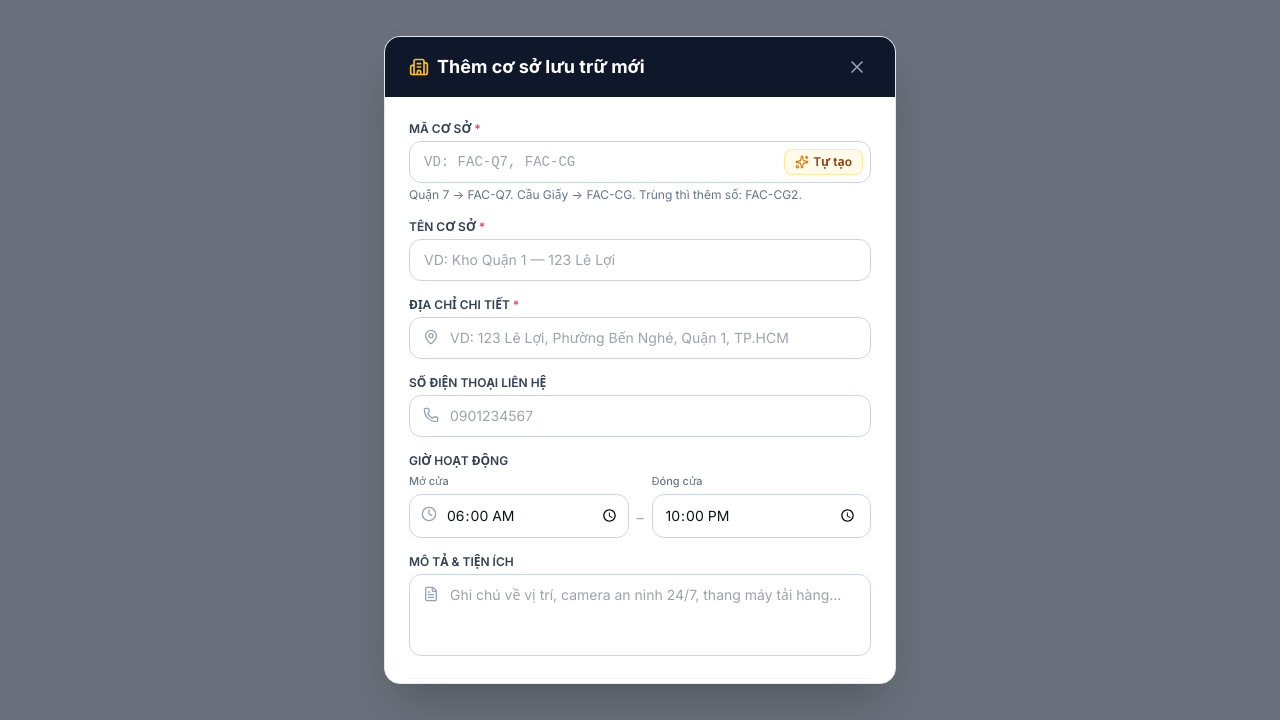
Scenario: FacilityModal: Auto-generate Facility Code › tự động sinh mã FAC-Q1 khi người dùng nhập địa chỉ Quận 1
Nhập Tên cơ sở và Địa chỉ
Type "Kho Quận 1" into the field with placeholder "VD: Kho Quận 1 — 123 Lê Lợi". click: (640, 260)
box: left=409, top=239, right=871, bottom=281
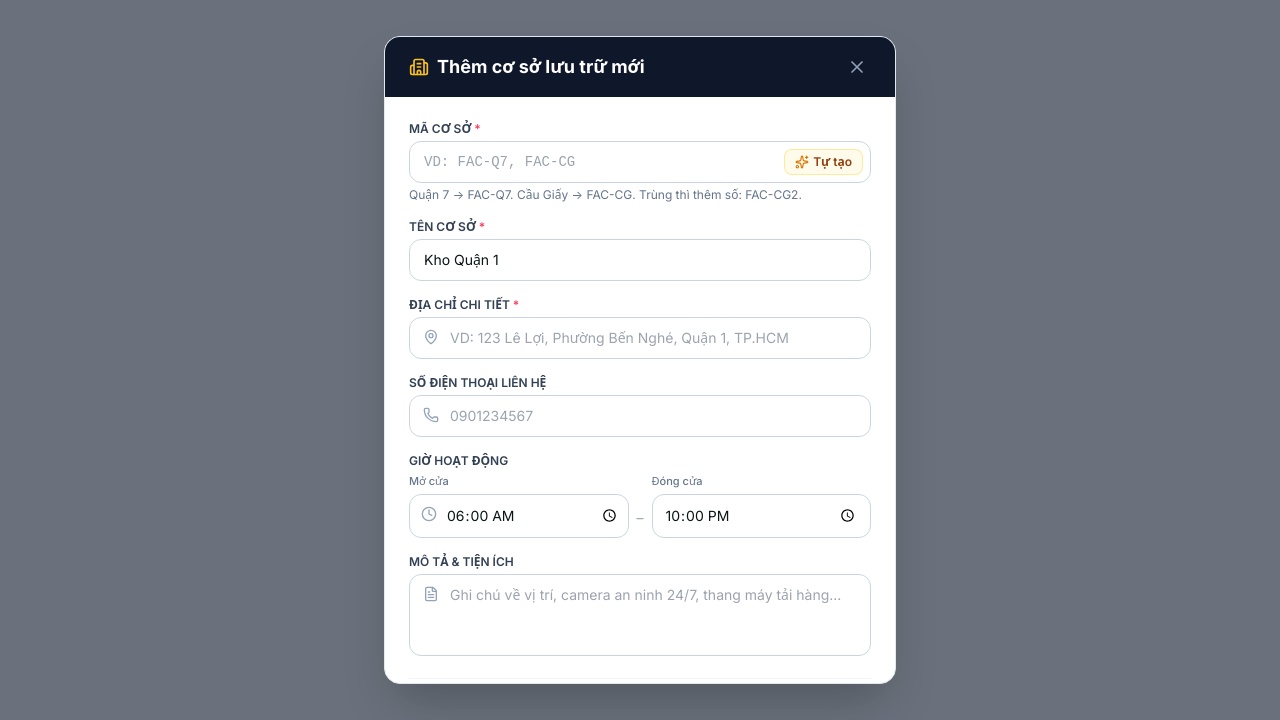
Type "123 Lê Lợi, Quận 1, TP.HCM" into the field with placeholder "VD: 123 Lê Lợi, Phường Bến Nghé, Quận 1, TP.HCM". click: (640, 338)
box: left=409, top=317, right=871, bottom=359
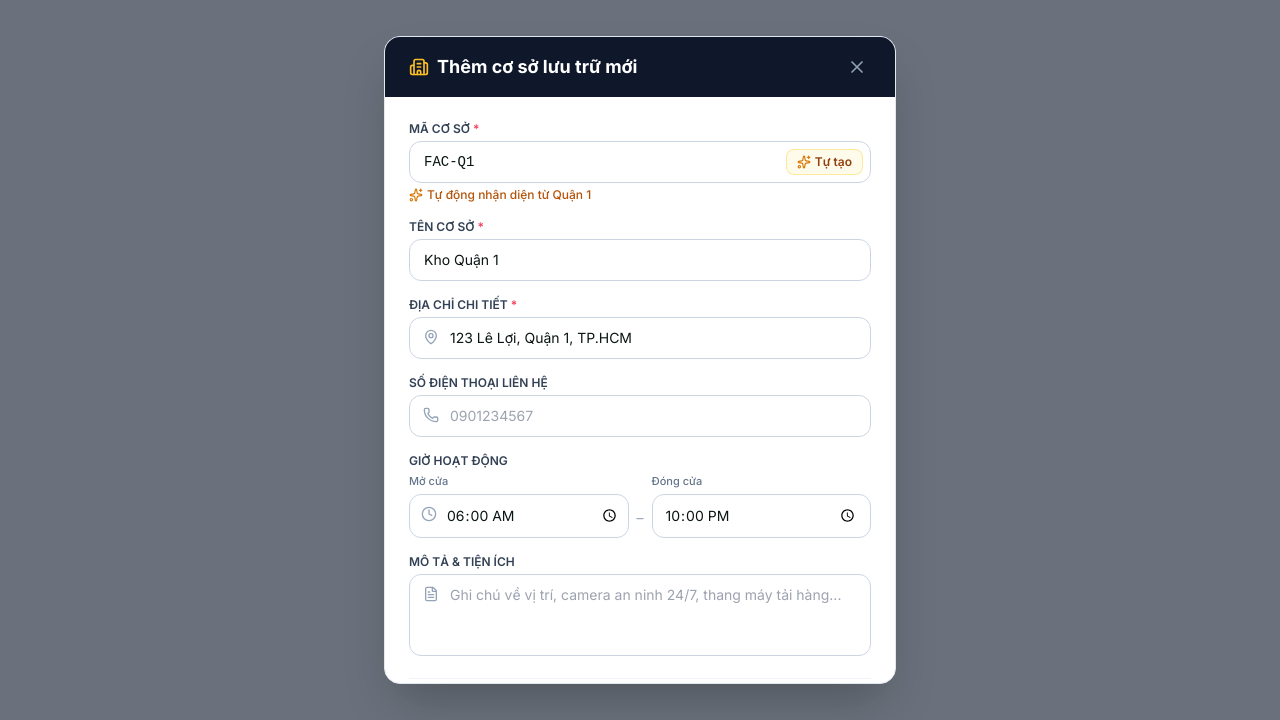
Result: the field with placeholder "VD: FAC-Q7, FAC-CG" below "Mã cơ sở" holds "FAC-Q1" at left=409, top=141, right=871, bottom=183
Result: the text "Tự động nhận diện từ Quận 1" is shown at left=427, top=187, right=591, bottom=203
